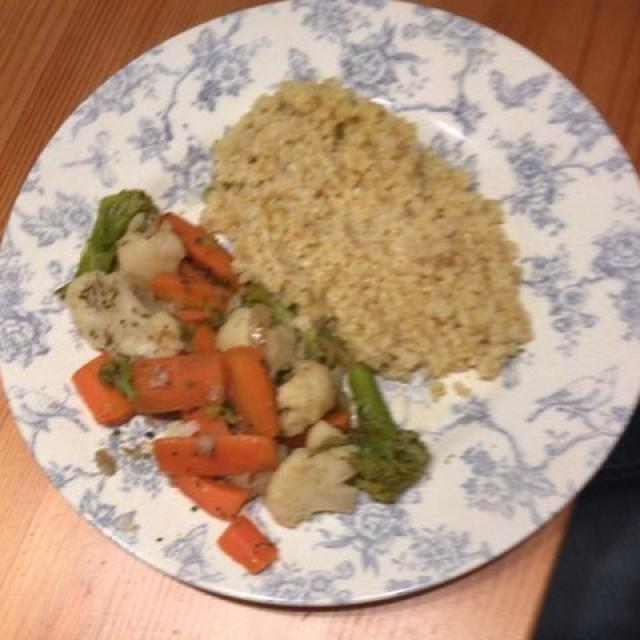bulgur: (212, 87, 532, 390)
mixed-vegetables: (70, 201, 409, 550)
